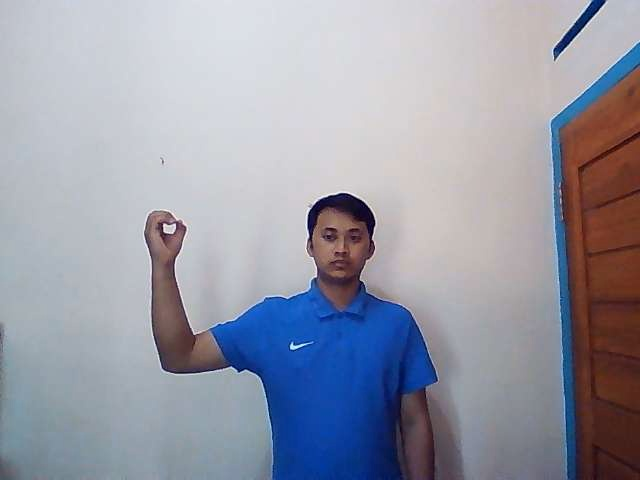O: (143, 207, 187, 266)
